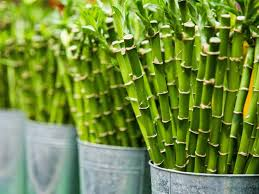bamboo: (128, 1, 258, 172), (75, 1, 150, 138), (1, 1, 78, 123)
